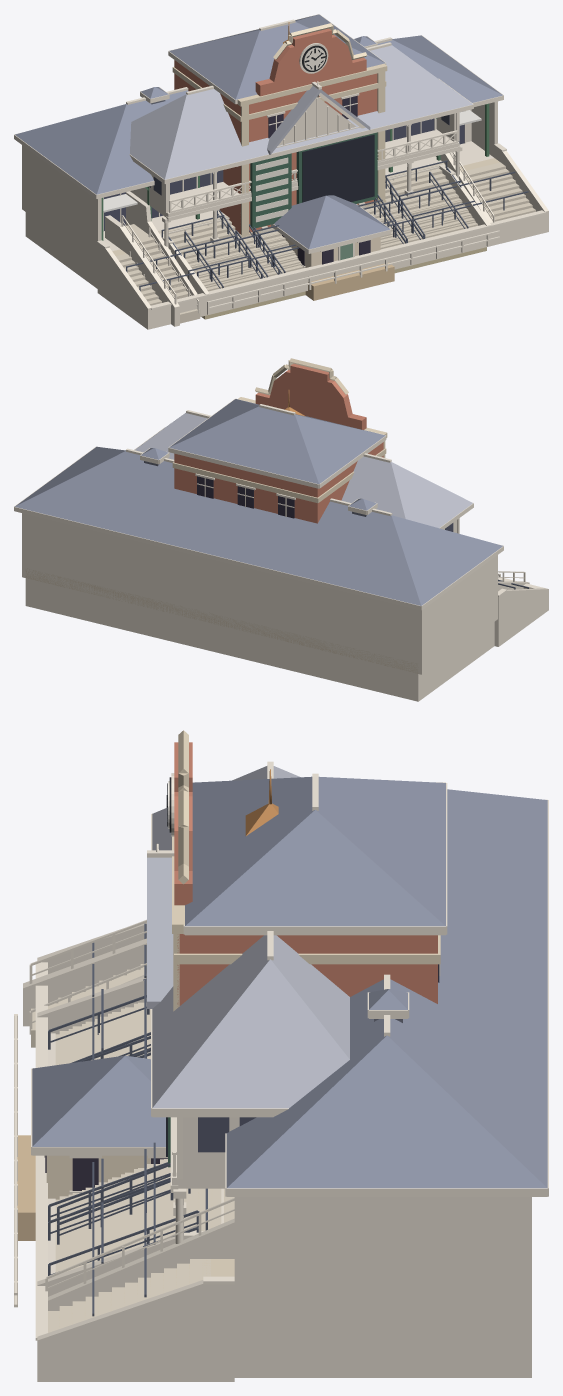
Rendered from gen-ring-r-small_stands.glb.
The picture shows the model from 3 angles, top to bottom: view 1: azimuth 30°, elevation 25°; view 2: azimuth 150°, elevation 25°; view 3: azimuth 270°, elevation 25°; orthographic projection. The views are drawn at different scales.
Parts seen in each view (by area): view 1: gen_pavilion_small, gen_veranda_wing, park_clock_house, gen_terrace_24, little_pavilion; view 2: gen_veranda_wing, park_clock_house, gen_pavilion_small; view 3: gen_veranda_wing, gen_pavilion_small, park_clock_house, little_pavilion, gen_terrace_24.
Part boxes in pixels (x1,y1,x2,y2): gen_pavilion_small: (105, 22, 499, 326); gen_veranda_wing: (14, 35, 548, 329); park_clock_house: (168, 14, 486, 319); gen_terrace_24: (159, 164, 491, 312); little_pavilion: (271, 195, 394, 300); gen_veranda_wing: (14, 446, 548, 701); park_clock_house: (168, 358, 387, 523); gen_pavilion_small: (134, 390, 529, 591); gen_veranda_wing: (35, 780, 548, 1381); gen_pavilion_small: (14, 761, 349, 1310); park_clock_house: (166, 730, 447, 1167); little_pavilion: (17, 1055, 167, 1240); gen_terrace_24: (35, 976, 223, 1296).
Bounding box in the file's own units: 35.3 × 19.15 × 20.5.
